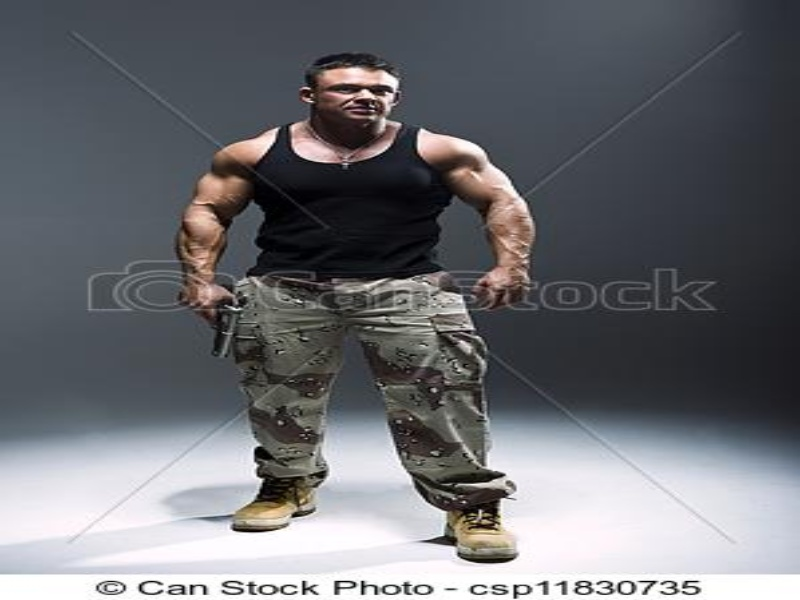gun: (184, 285, 243, 372)
